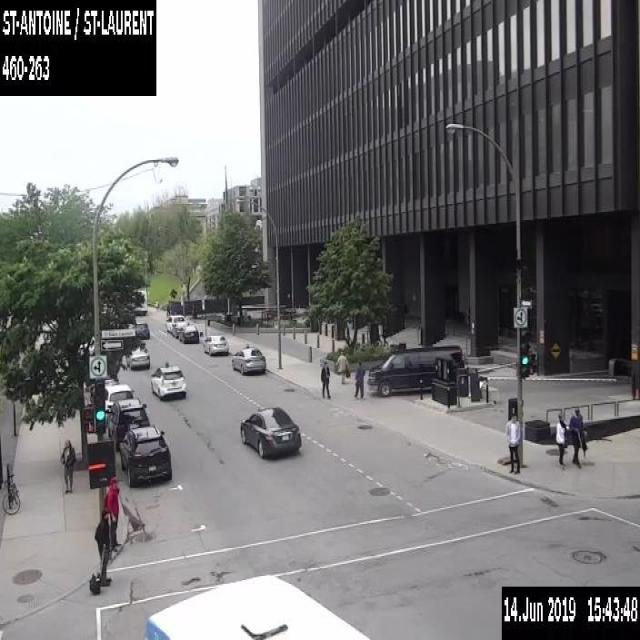bus: (144, 569, 370, 639), (131, 287, 147, 314)
pedestrian: (89, 507, 112, 594), (103, 471, 122, 550), (567, 405, 588, 469), (59, 436, 76, 496), (504, 410, 520, 472), (554, 412, 569, 466), (335, 351, 350, 384), (319, 358, 331, 398), (352, 360, 364, 397)
vehicle: (366, 344, 464, 396), (239, 405, 301, 458), (118, 425, 171, 486), (105, 396, 149, 451), (149, 362, 186, 400), (105, 382, 134, 425), (230, 344, 266, 373), (126, 345, 149, 369), (203, 334, 228, 354), (165, 312, 184, 331), (178, 324, 198, 342), (171, 320, 188, 338), (135, 322, 149, 338), (104, 377, 118, 386)
